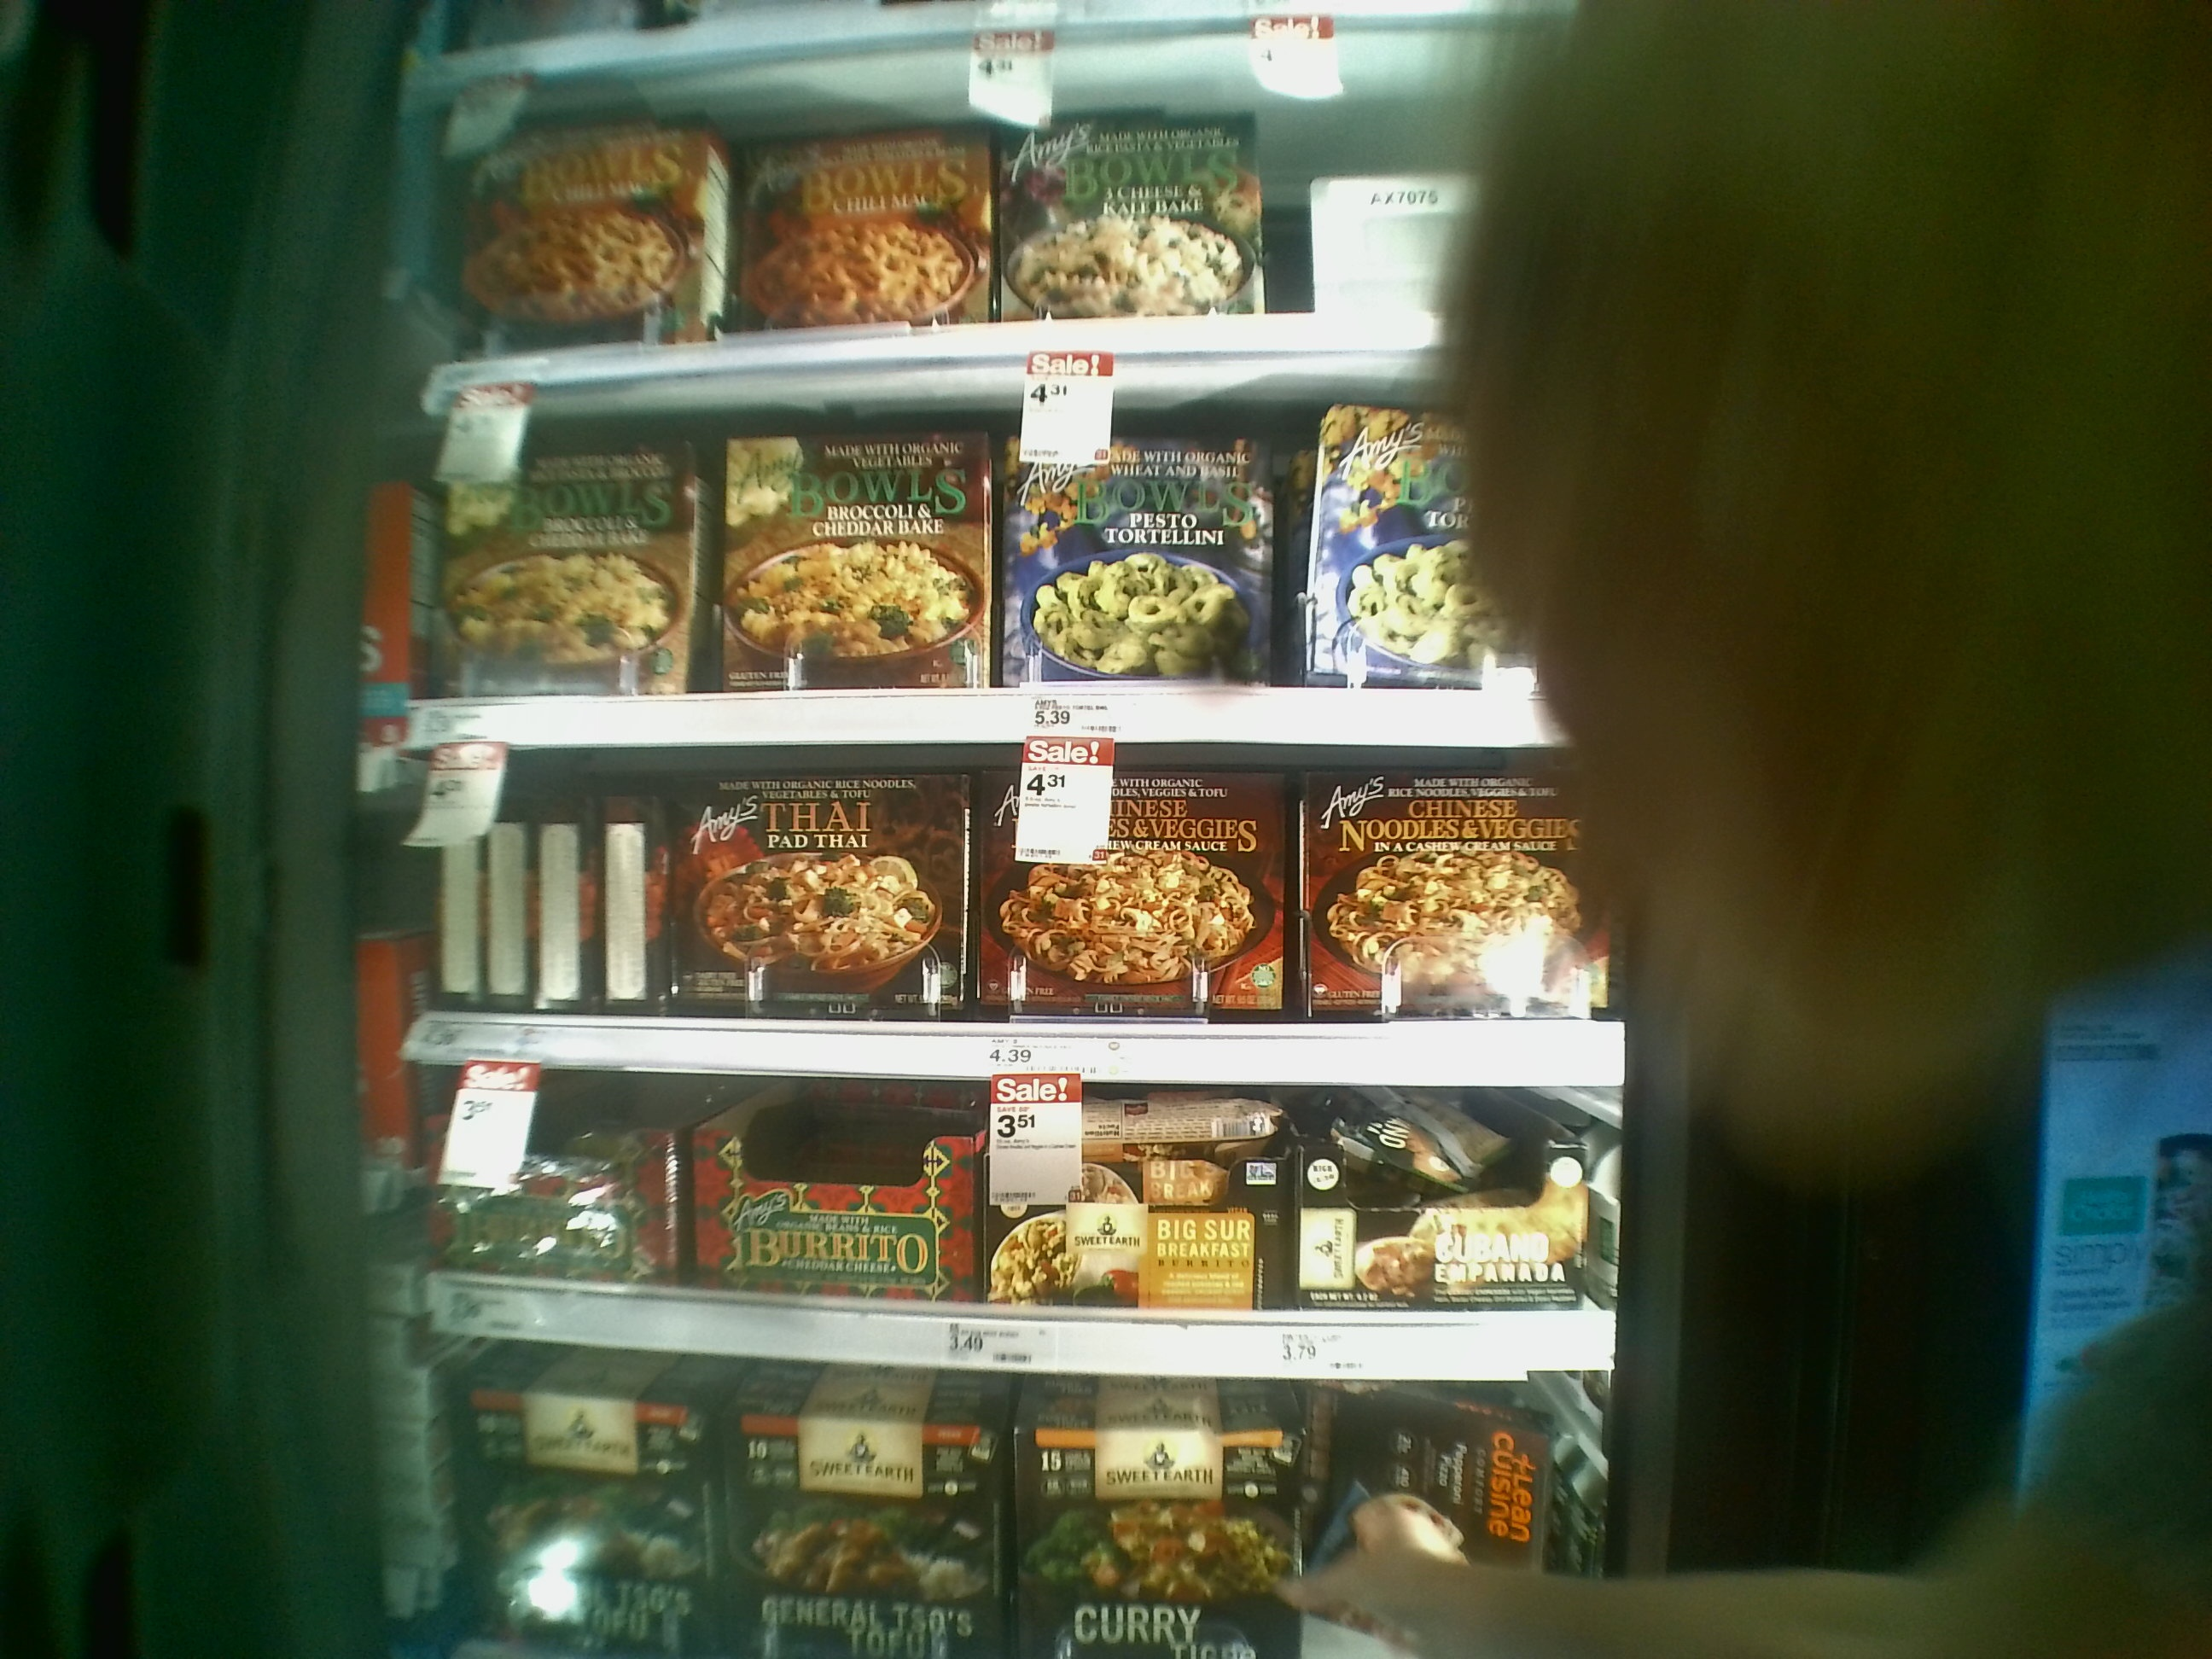frozen-food-shelf: (392, 753, 1649, 1093), (401, 401, 1629, 746), (392, 1093, 1674, 1384)
